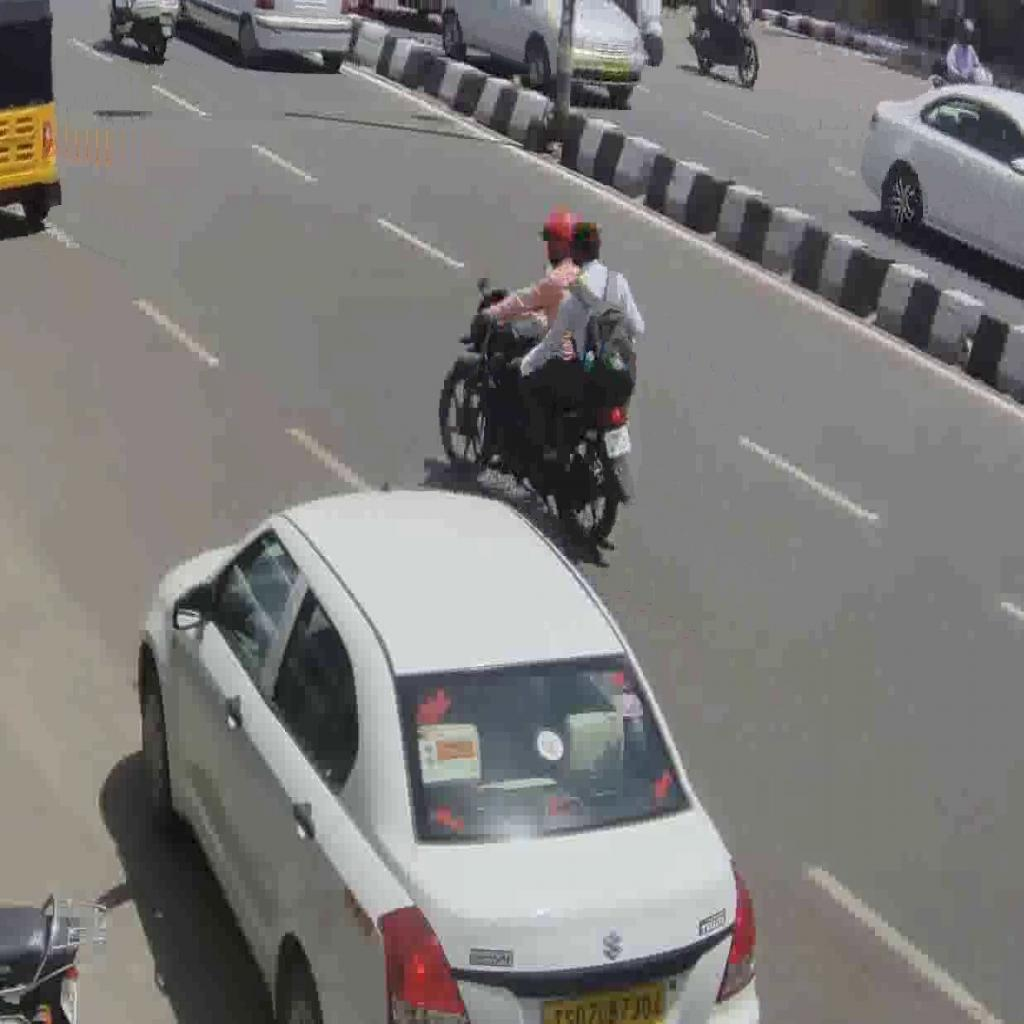helmet: (437, 284, 637, 548)
